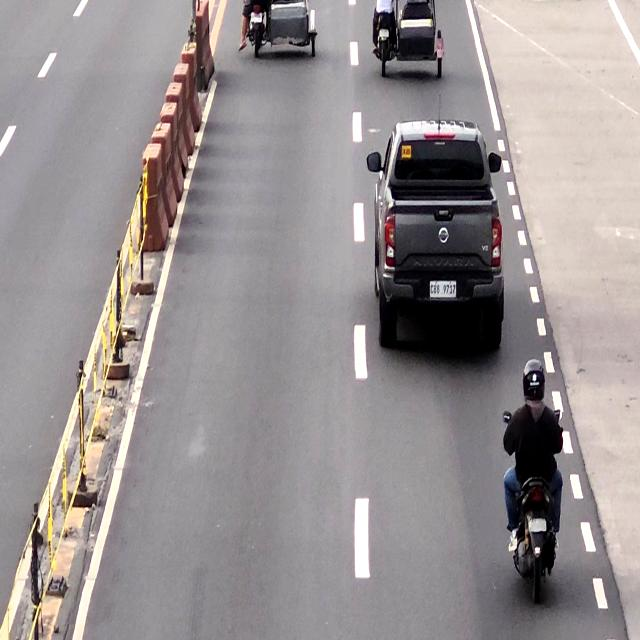Car: (378, 124, 502, 342)
License-Plate: (429, 280, 458, 296)
Motorcycle: (512, 362, 560, 594)
Tricycle: (240, 0, 319, 58), (378, 0, 442, 71)
